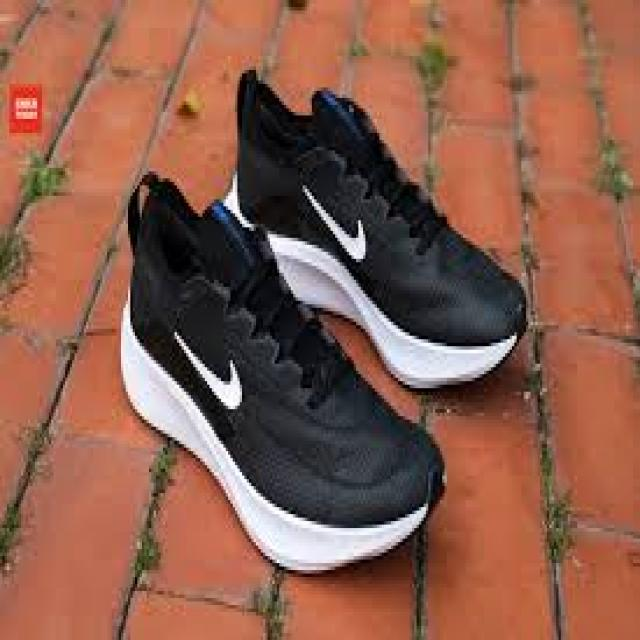shoes: (116, 63, 528, 571), (124, 170, 446, 579), (221, 63, 527, 391)
